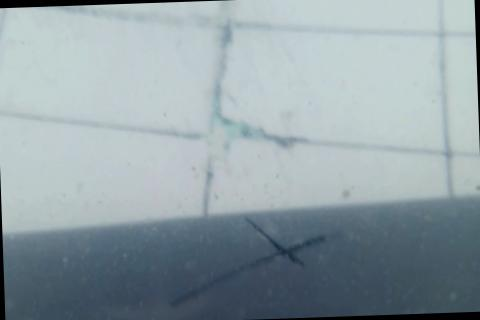keretakan: (164, 213, 341, 313)
